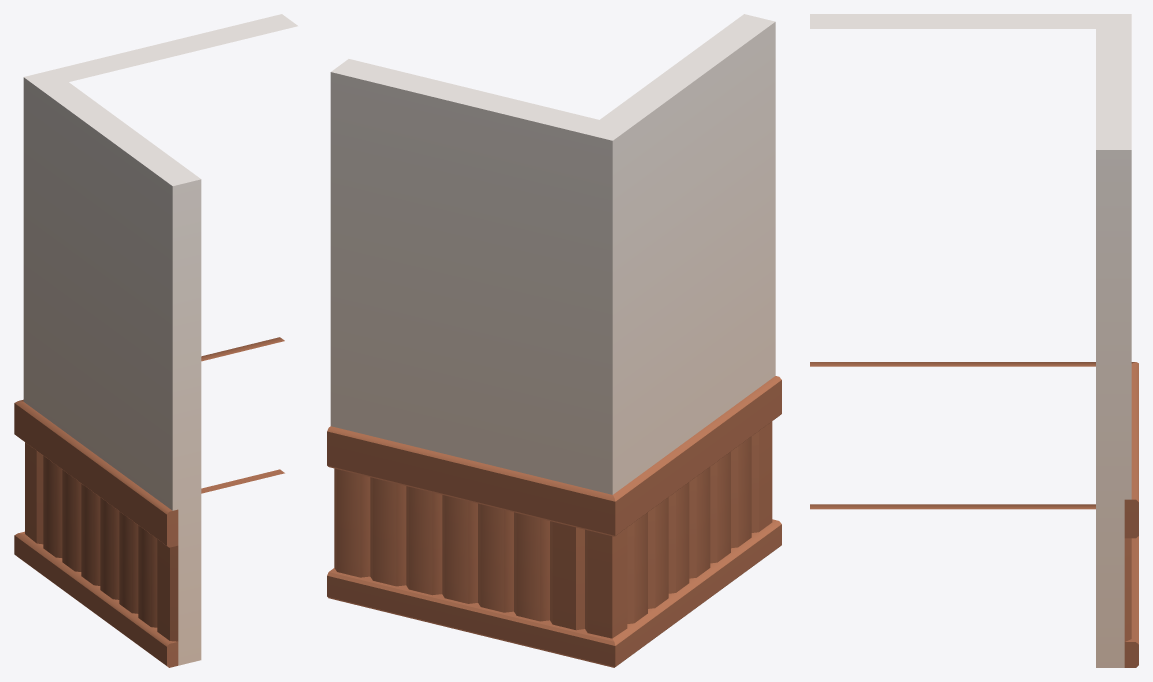
File: wall-modular-panelled-bakery-corner-outer-a.glb
The picture shows the model from 3 angles, left to right: view 1: azimuth 30°, elevation 25°; view 2: azimuth 150°, elevation 25°; view 3: azimuth 270°, elevation 25°; orthographic projection. The views are drawn at different scales.
Parts seen in each view (by area): view 1: wall_modular_panelled_bakery_corner_outer_A; view 2: wall_modular_panelled_bakery_corner_outer_A; view 3: wall_modular_panelled_bakery_corner_outer_A.
Part boxes in pixels (x1,y1,x2,y2): wall_modular_panelled_bakery_corner_outer_A: [14, 14, 297, 667]; wall_modular_panelled_bakery_corner_outer_A: [327, 14, 781, 667]; wall_modular_panelled_bakery_corner_outer_A: [810, 14, 1138, 667].
Size of the model in its own units: 2.3 by 4 by 2.3.
1 material, 1 textured.
